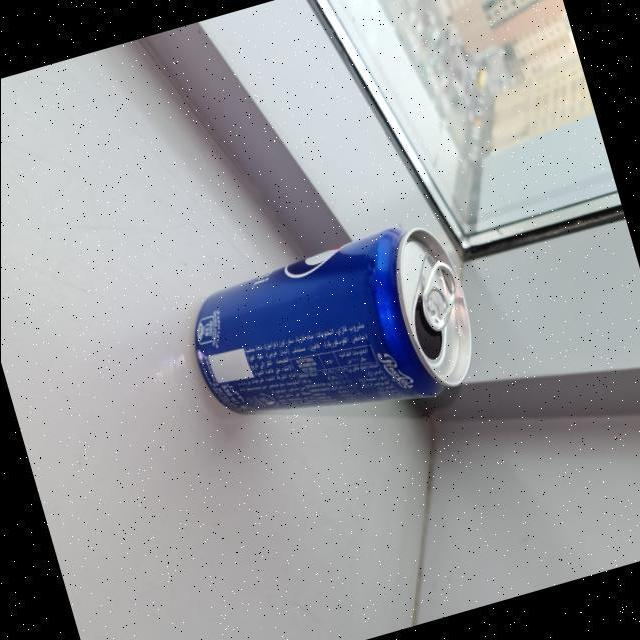can: (163, 203, 498, 470)
